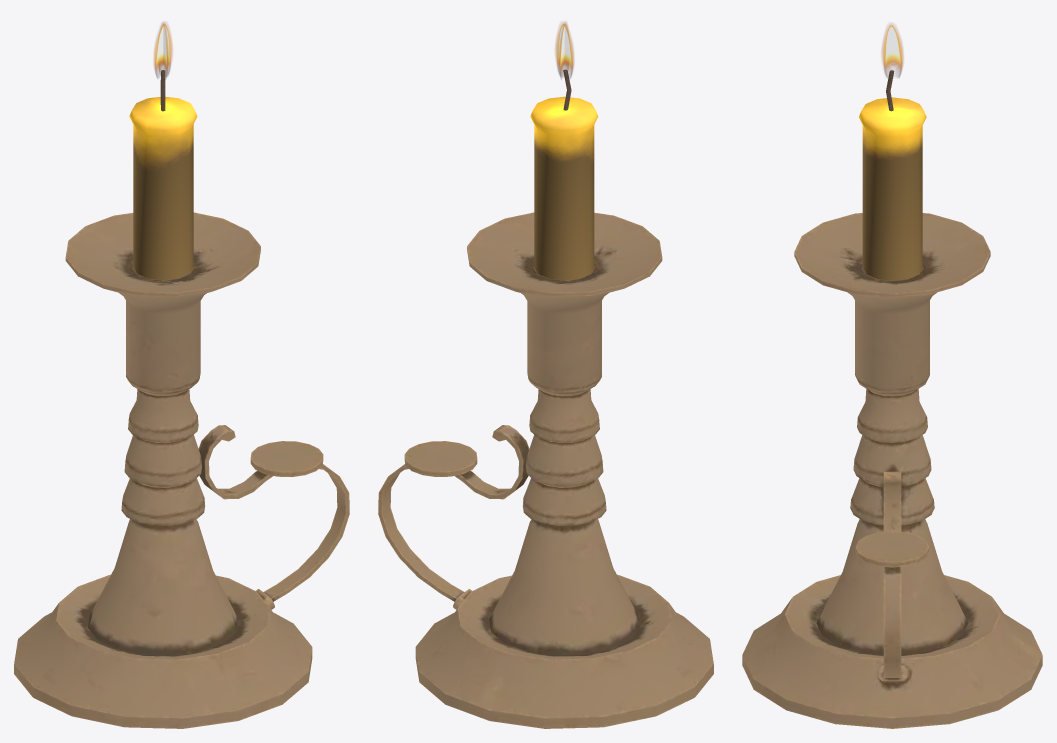
The model's file is candle.glb.
The picture shows the model from 3 angles, left to right: view 1: azimuth 30°, elevation 25°; view 2: azimuth 150°, elevation 25°; view 3: azimuth 270°, elevation 25°; orthographic projection.
Parts seen in each view (by area): view 1: Cylinder001_Material #33_0, Cylinder003_Material #31_0, Plane001_Material #35_0; view 2: Cylinder001_Material #33_0, Cylinder003_Material #31_0, Plane001_Material #35_0; view 3: Cylinder001_Material #33_0, Cylinder003_Material #31_0, Plane001_Material #35_0.
Boxes of the visible parts, x1,y1,x2,y2 form: Cylinder001_Material #33_0: (14, 70, 349, 728); Cylinder003_Material #31_0: (129, 96, 197, 280); Plane001_Material #35_0: (154, 22, 172, 78); Cylinder001_Material #33_0: (378, 69, 713, 728); Cylinder003_Material #31_0: (530, 96, 598, 280); Plane001_Material #35_0: (555, 22, 573, 79); Cylinder001_Material #33_0: (742, 70, 1042, 728); Cylinder003_Material #31_0: (859, 97, 926, 280); Plane001_Material #35_0: (882, 24, 903, 77).
Bounding box in the file's own units: 94.84 × 187 × 79.11.
3 materials, 2 textured.
